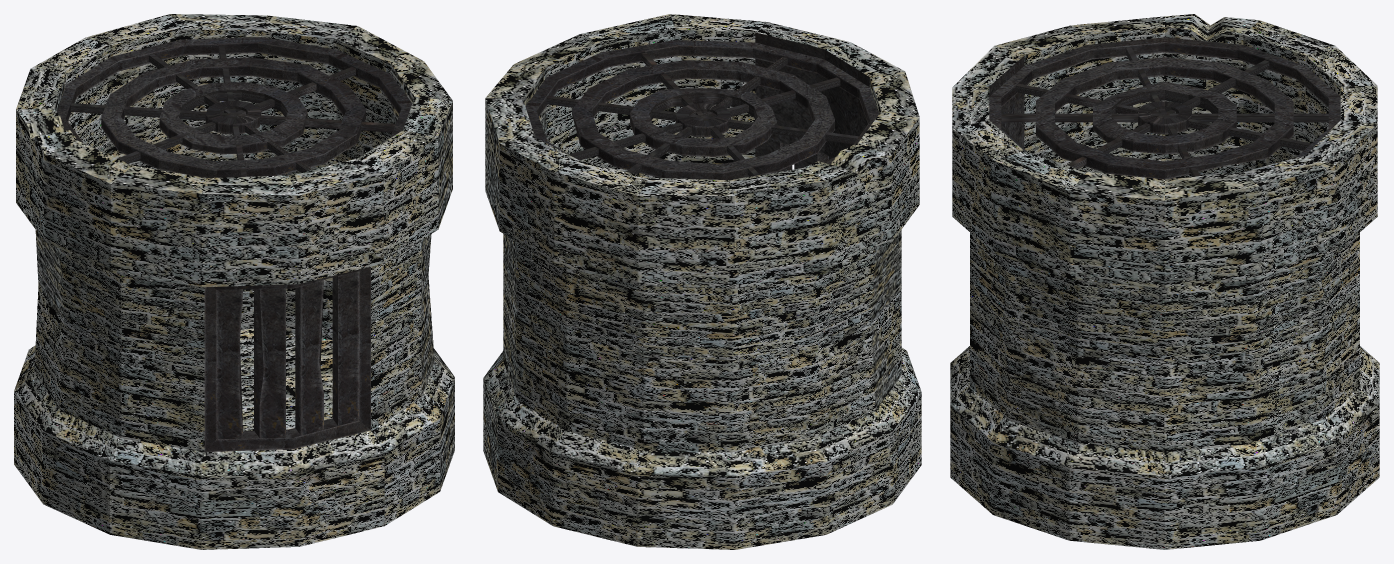
The model's file is tavern_fireplace.dae.
The picture shows the model from 3 angles, left to right: view 1: azimuth 30°, elevation 25°; view 2: azimuth 150°, elevation 25°; view 3: azimuth 270°, elevation 25°; orthographic projection.
Visible parts, largest first — view 1: Default_Layer; view 2: Default_Layer; view 3: Default_Layer.
Part boxes in pixels (x1,y1,x2,y2): Default_Layer: (14,14,454,549); Default_Layer: (483,14,921,549); Default_Layer: (950,14,1379,549).
Size of the model in its own units: 2 by 1.77 by 1.95.
